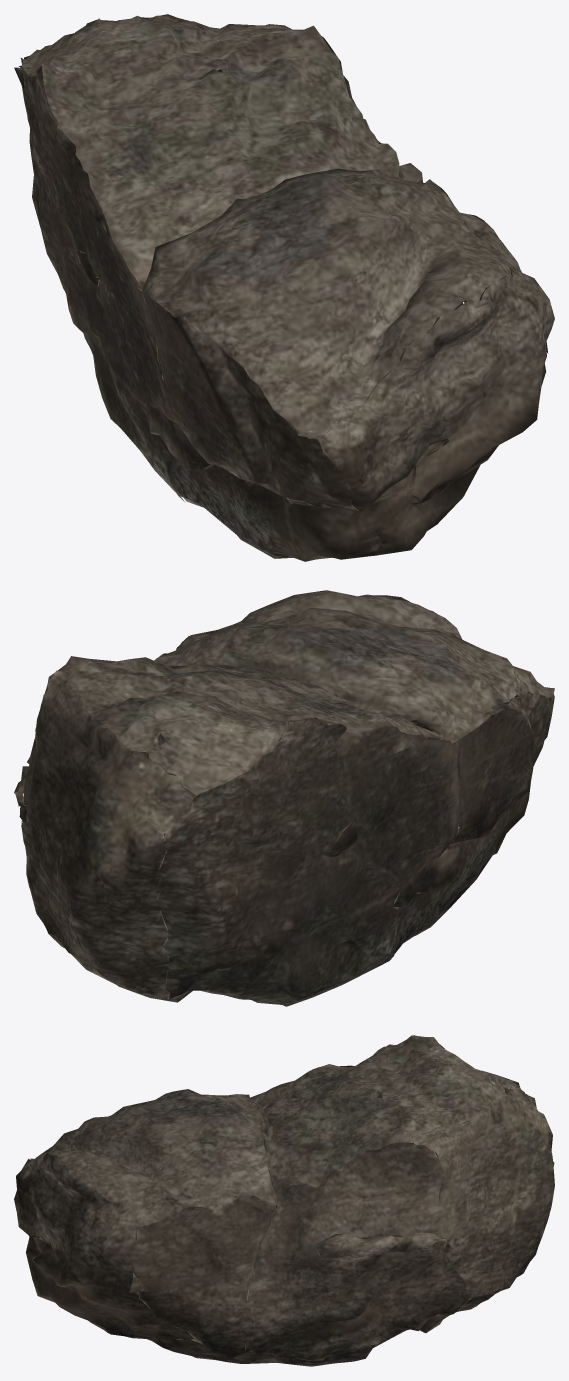
The model's file is namaqualand_boulder_06.glb.
3 renders of one model, top to bottom at view 1: azimuth 30°, elevation 25°; view 2: azimuth 150°, elevation 25°; view 3: azimuth 270°, elevation 25°, orthographic. The views are drawn at different scales.
Visible parts, largest first — view 1: namaqualand_boulder_06; view 2: namaqualand_boulder_06; view 3: namaqualand_boulder_06.
Part boxes in pixels (<box>): namaqualand_boulder_06: <box>14,14,554,561</box>; namaqualand_boulder_06: <box>14,590,554,1006</box>; namaqualand_boulder_06: <box>14,1035,554,1366</box>.
Size of the model in its own units: 0.6746 by 0.6509 by 1.21.
1 material, 1 textured.
